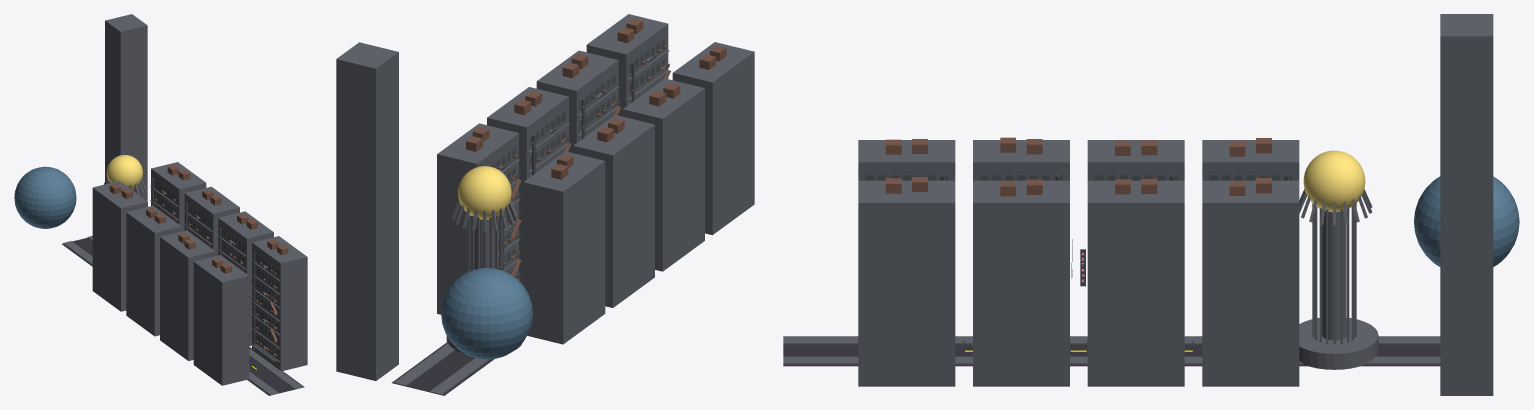
The model's file is astana_cyberpunk_canyon.glb.
3 renders of one model, left to right at view 1: azimuth 30°, elevation 25°; view 2: azimuth 150°, elevation 25°; view 3: azimuth 270°, elevation 25°, orthographic. The views are drawn at different scales.
Parts seen in each view (by area): view 1: Bldg_L0_Hull, Bg_AbuDhabiPlaza, Bldg_R0_Hull, Bldg_L3_Hull, Bldg_L1_Hull, Bldg_L2_Hull, Bg_ExpoSphere, Bldg_R1_Hull, Bldg_R2_Hull, Bldg_R3_Hull, Street_Asphalt, Hero_Baiterek_GoldenSun (+3 smaller); view 2: Bg_AbuDhabiPlaza, Bldg_L3_Hull, Bldg_L0_Hull, Bldg_L2_Hull, Bldg_L1_Hull, Bg_ExpoSphere, Bldg_R3_Hull, Bldg_R2_Hull, Bldg_R0_Hull, Bldg_R1_Hull, Hero_Baiterek_GoldenSun, Street_Asphalt (+3 smaller); view 3: Bg_AbuDhabiPlaza, Bldg_R0_Hull, Bldg_R2_Hull, Bldg_R3_Hull, Bldg_R1_Hull, Bg_ExpoSphere, Street_Asphalt, Bldg_L1_Hull, Bldg_L3_Hull, Bldg_L2_Hull, Bldg_L0_Hull, Hero_Baiterek_Base (+4 smaller).
Boxes of the visible parts, left/top/right/bottom form: Bldg_L0_Hull: left=193, top=255, right=249, bottom=385; Bg_AbuDhabiPlaza: left=105, top=14, right=147, bottom=201; Bldg_R0_Hull: left=252, top=236, right=307, bottom=371; Bldg_L3_Hull: left=92, top=181, right=147, bottom=311; Bldg_L1_Hull: left=160, top=230, right=215, bottom=360; Bldg_L2_Hull: left=126, top=205, right=181, bottom=336; Bg_ExpoSphere: left=14, top=166, right=76, bottom=228; Bldg_R1_Hull: left=218, top=211, right=273, bottom=346; Bldg_R2_Hull: left=184, top=186, right=239, bottom=255; Bldg_R3_Hull: left=151, top=162, right=206, bottom=231; Street_Asphalt: left=62, top=237, right=304, bottom=395; Hero_Baiterek_GoldenSun: left=106, top=155, right=142, bottom=188; Bg_AbuDhabiPlaza: left=336, top=42, right=398, bottom=380; Bldg_L3_Hull: left=523, top=151, right=605, bottom=344; Bldg_L0_Hull: left=672, top=42, right=754, bottom=235; Bldg_L2_Hull: left=573, top=115, right=654, bottom=307; Bldg_L1_Hull: left=623, top=78, right=704, bottom=271; Bg_ExpoSphere: left=441, top=268, right=532, bottom=359; Bldg_R3_Hull: left=437, top=123, right=518, bottom=314; Bldg_R2_Hull: left=487, top=87, right=568, bottom=284; Bldg_R0_Hull: left=586, top=14, right=668, bottom=116; Bldg_R1_Hull: left=536, top=50, right=618, bottom=152; Hero_Baiterek_GoldenSun: left=458, top=166, right=511, bottom=219; Street_Asphalt: left=392, top=342, right=494, bottom=395; Bg_AbuDhabiPlaza: left=1440, top=14, right=1493, bottom=395; Bldg_R0_Hull: left=858, top=180, right=955, bottom=386; Bldg_R2_Hull: left=1087, top=180, right=1184, bottom=386; Bldg_R3_Hull: left=1202, top=180, right=1299, bottom=386; Bldg_R1_Hull: left=973, top=180, right=1069, bottom=386; Bg_ExpoSphere: left=1414, top=176, right=1519, bottom=266; Street_Asphalt: left=783, top=336, right=1440, bottom=366; Bldg_L1_Hull: left=973, top=140, right=1069, bottom=180; Bldg_L3_Hull: left=1202, top=140, right=1299, bottom=180; Bldg_L2_Hull: left=1087, top=140, right=1184, bottom=180; Bldg_L0_Hull: left=858, top=140, right=955, bottom=180; Hero_Baiterek_Base: left=1299, top=318, right=1378, bottom=369.
Size of the model in its own units: 54 by 90 by 167.
